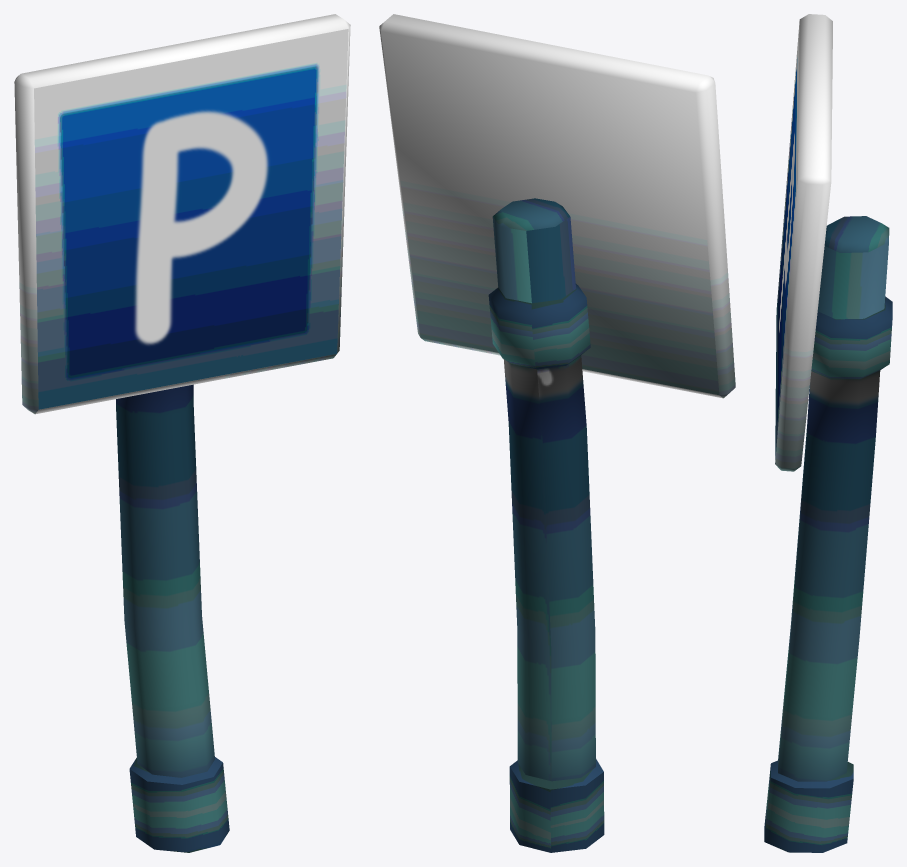
Rendered from ParkingSign.FBX.
3 views of the same model, side by side, from view 1: azimuth 30°, elevation 25°; view 2: azimuth 150°, elevation 25°; view 3: azimuth 270°, elevation 25° (orthographic). The views are drawn at different scales.
Visible parts, largest first — view 1: Parking_Sign; view 2: Parking_Sign; view 3: Parking_Sign.
Boxes of the visible parts, left/top/right/bottom form: Parking_Sign: left=14, top=14, right=350, bottom=852; Parking_Sign: left=379, top=14, right=735, bottom=852; Parking_Sign: left=764, top=14, right=892, bottom=852.
Size of the model in its own units: 140 by 317 by 49.03.
